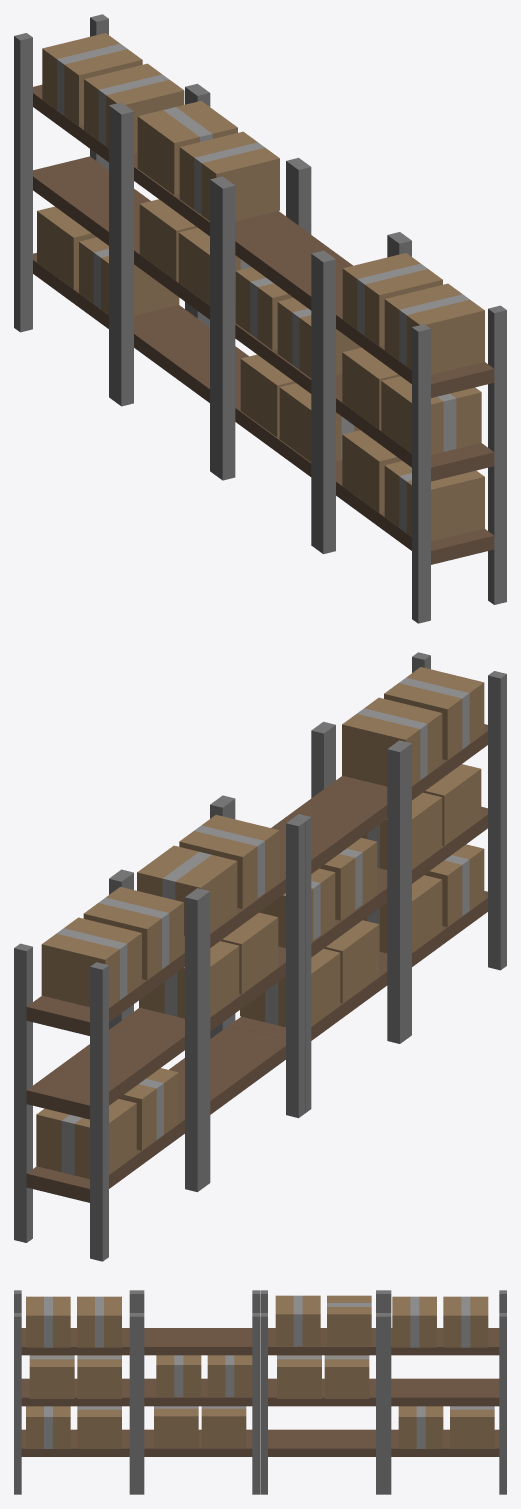
File: PACKED SHELF.fbx
The picture shows the model from 3 angles, top to bottom: view 1: azimuth 30°, elevation 25°; view 2: azimuth 150°, elevation 25°; view 3: azimuth 270°, elevation 25°; orthographic projection. The views are drawn at different scales.
Visible parts, largest first — view 1: Box.017; view 2: Box.017; view 3: Box.017.
Boxes of the visible parts, bbox=[...] form: Box.017: bbox=[14, 14, 506, 623]; Box.017: bbox=[14, 652, 506, 1261]; Box.017: bbox=[14, 1290, 506, 1494].
Size of the model in its own units: 200 by 628 by 1577.
